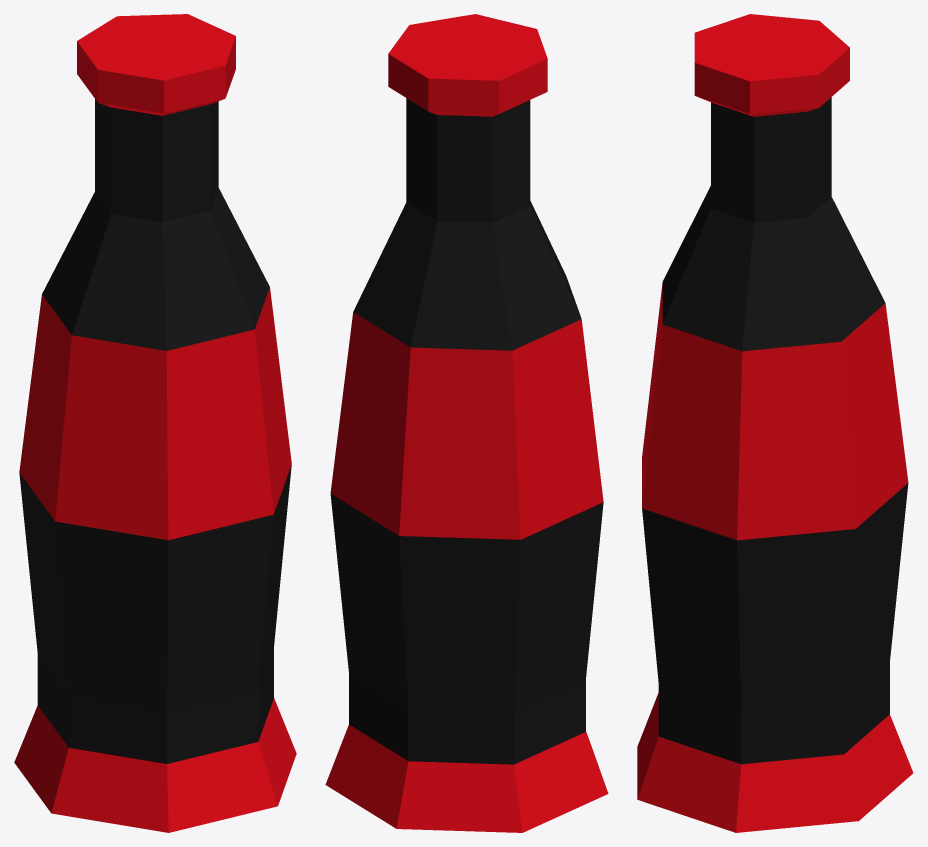
Rendered from cola.fbx.
3 renders of one model, left to right at view 1: azimuth 30°, elevation 25°; view 2: azimuth 150°, elevation 25°; view 3: azimuth 270°, elevation 25°, orthographic.
Parts seen in each view (by area): view 1: Cylinder.002; view 2: Cylinder.002; view 3: Cylinder.002.
Boxes of the visible parts, x1,y1,x2,y2 form: Cylinder.002: [14, 14, 296, 832]; Cylinder.002: [325, 14, 608, 832]; Cylinder.002: [637, 14, 913, 832].
Size of the model in its own units: 167 by 473 by 163.
